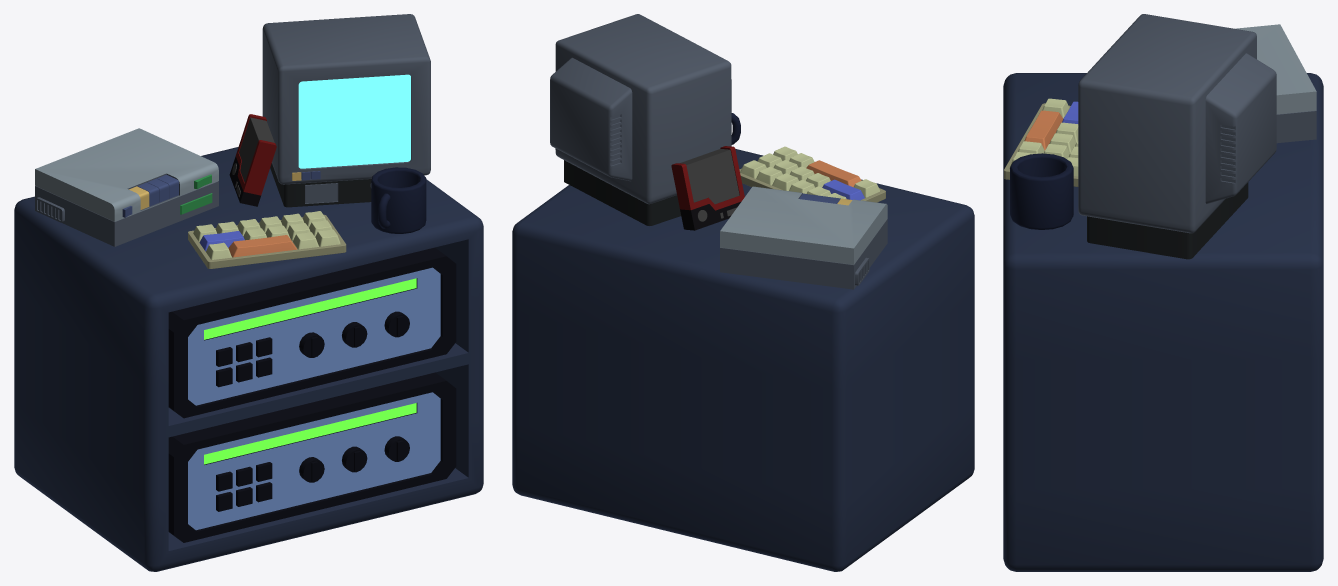
File: table_01.fbx
3 views of the same model, side by side, from view 1: azimuth 30°, elevation 25°; view 2: azimuth 150°, elevation 25°; view 3: azimuth 270°, elevation 25° (orthographic). The views are drawn at different scales.
Visible parts, largest first — view 1: Cube.162, Cube.163.frozen, Cube.159.frozen, Cube.155.frozen, Plane.025, mug.001, Cube.042; view 2: Cube.162, Cube.159.frozen, Cube.155.frozen, Cube.042, Plane.025; view 3: Cube.162, Cube.159.frozen, mug.001, Cube.155.frozen, Plane.025.
Part boxes in pixels (<box>): Cube.162: <box>14,147,483,571</box>; Cube.163.frozen: <box>168,247,456,542</box>; Cube.159.frozen: <box>262,14,430,207</box>; Cube.155.frozen: <box>35,128,218,246</box>; Plane.025: <box>188,211,346,268</box>; mug.001: <box>371,167,426,233</box>; Cube.042: <box>229,114,276,206</box>; Cube.162: <box>512,149,974,571</box>; Cube.159.frozen: <box>550,14,731,225</box>; Cube.155.frozen: <box>720,186,887,289</box>; Cube.042: <box>671,146,744,230</box>; Plane.025: <box>739,146,885,202</box>; Cube.162: <box>1003,73,1323,571</box>; Cube.159.frozen: <box>1078,14,1276,259</box>; mug.001: <box>1010,153,1073,229</box>; Cube.155.frozen: <box>1235,24,1316,143</box>; Plane.025: <box>1004,98,1078,186</box>.
Size of the model in its own units: 108 by 125 by 75.11.
